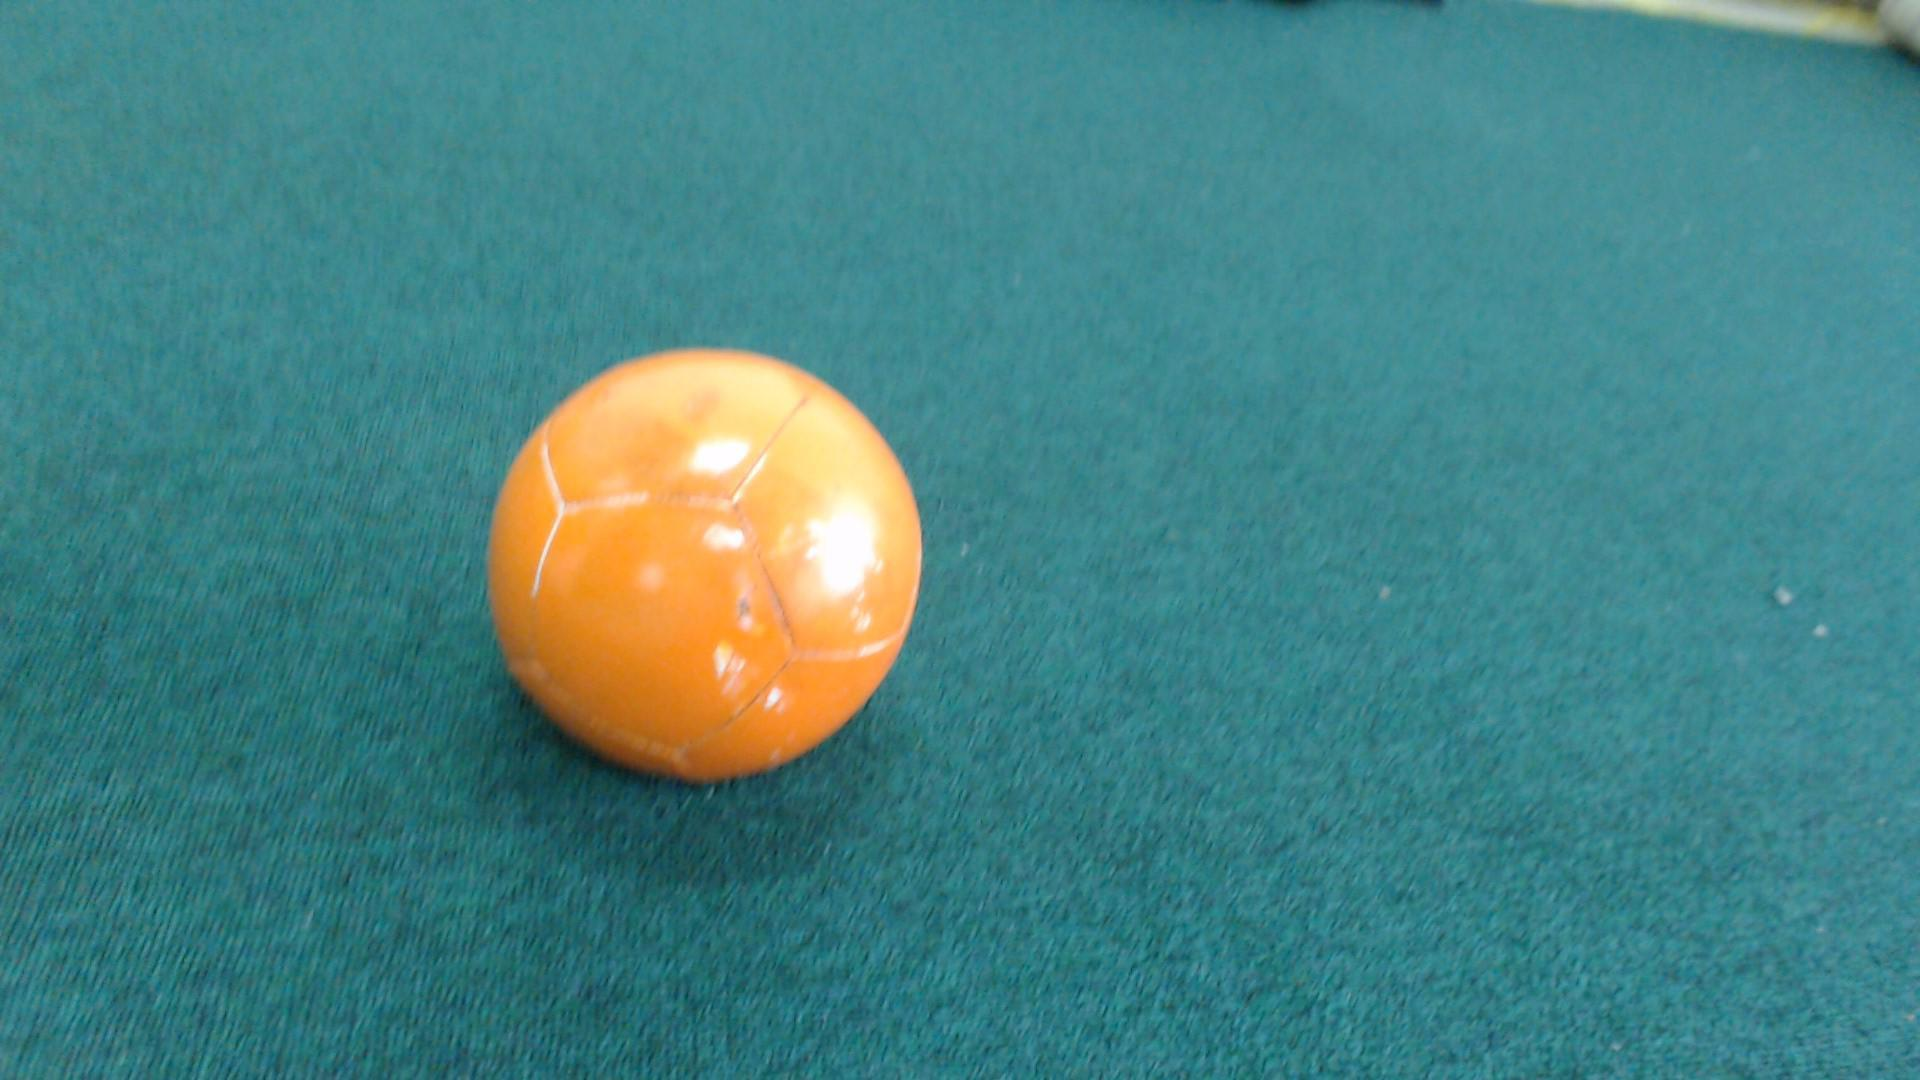bola: (458, 335, 949, 819)
